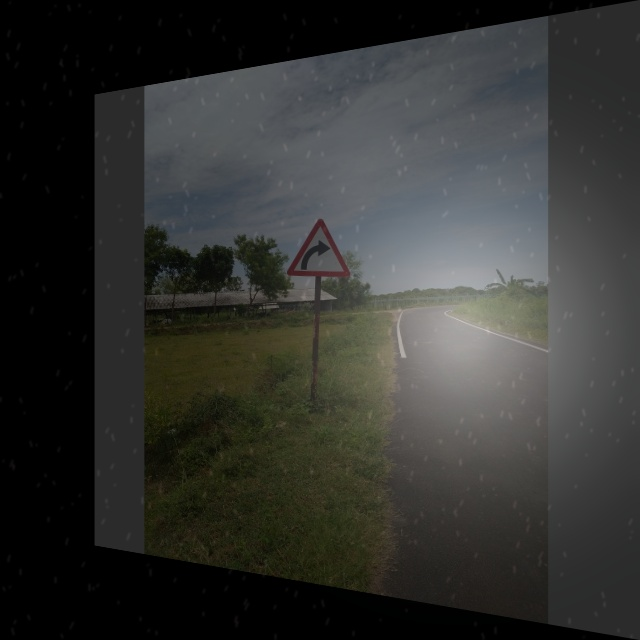Right_Hand_Curve: (287, 216, 348, 280)
